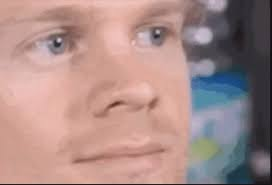white_male: (8, 10, 187, 185)
